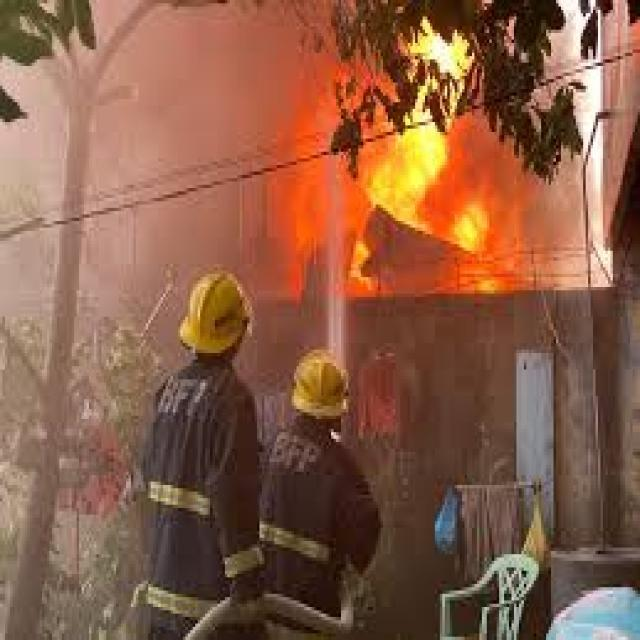Fire: (371, 119, 496, 219)
Smoke: (138, 18, 366, 242)
